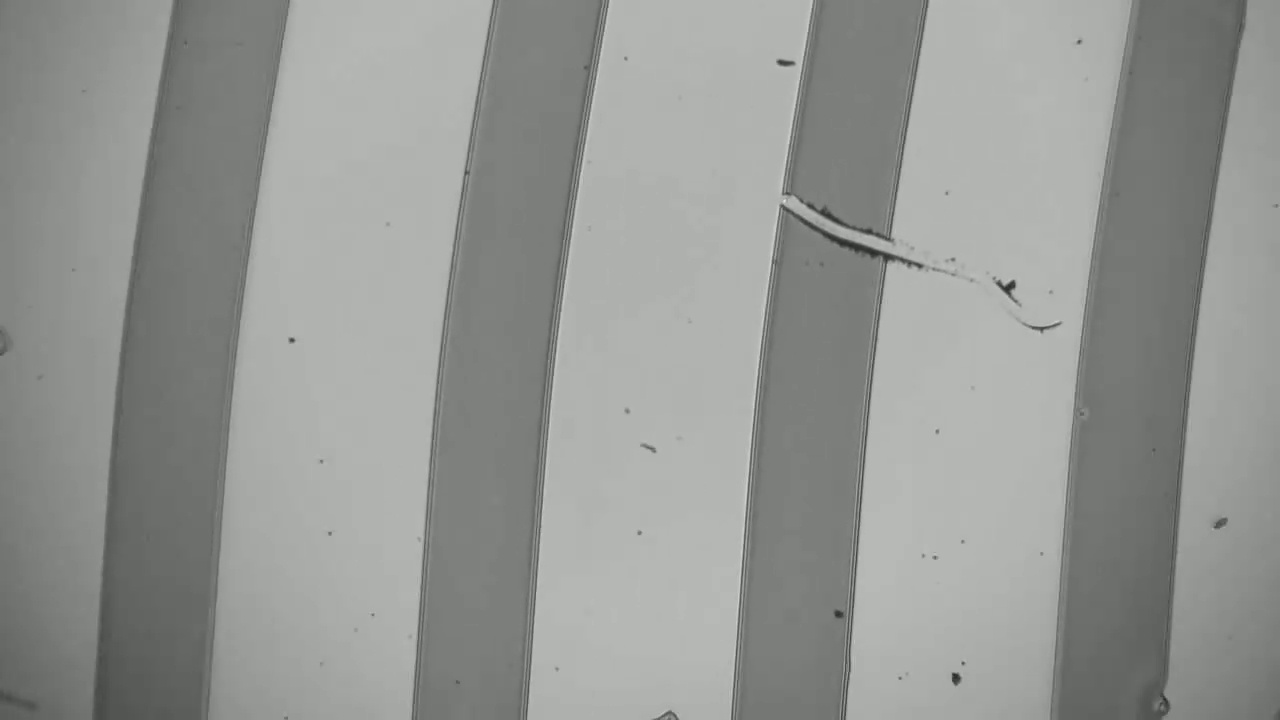Short_circuit: (743, 171, 930, 291)
